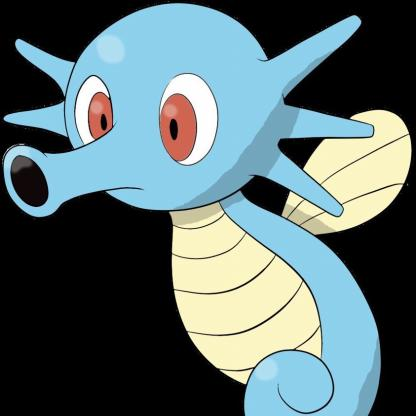Horsea: (2, 2, 407, 416)
